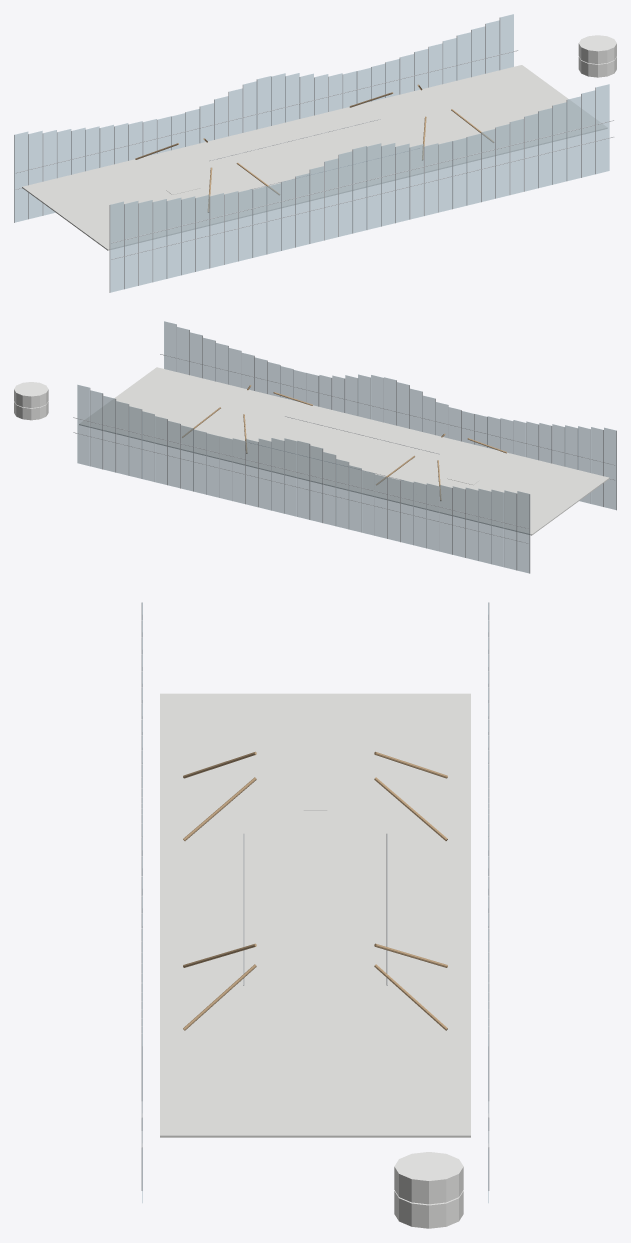
Rendered from level-02.glb.
3 renders of one model, top to bottom at view 1: azimuth 30°, elevation 25°; view 2: azimuth 150°, elevation 25°; view 3: azimuth 270°, elevation 25°, orthographic. The views are drawn at different scales.
Visible parts, largest first — view 1: glass, concrete, steel, tower, timber; view 2: glass, concrete, steel, tower, timber; view 3: concrete, tower, steel, timber, glass.
Boxes of the visible parts, left/top/right/bottom form: glass: left=14, top=14, right=609, bottom=292; concrete: left=22, top=65, right=607, bottom=250; steel: left=14, top=17, right=614, bottom=292; tower: left=578, top=35, right=616, bottom=77; timber: left=135, top=84, right=493, bottom=212; glass: left=77, top=321, right=616, bottom=573; concrete: left=79, top=367, right=609, bottom=535; steel: left=73, top=324, right=616, bottom=573; tower: left=14, top=382, right=48, bottom=420; timber: left=182, top=385, right=506, bottom=500; concrete: left=160, top=693, right=470, bottom=1137; tower: left=394, top=1152, right=463, bottom=1228; steel: left=141, top=602, right=489, bottom=1190; timber: left=183, top=751, right=447, bottom=1030; glass: left=142, top=603, right=488, bottom=1202.
Size of the model in its own units: 204 by 29.38 by 58.2.
